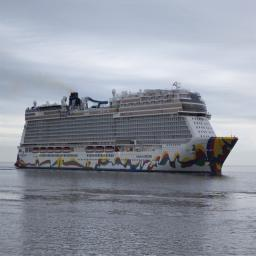cruises: (13, 80, 241, 179)
